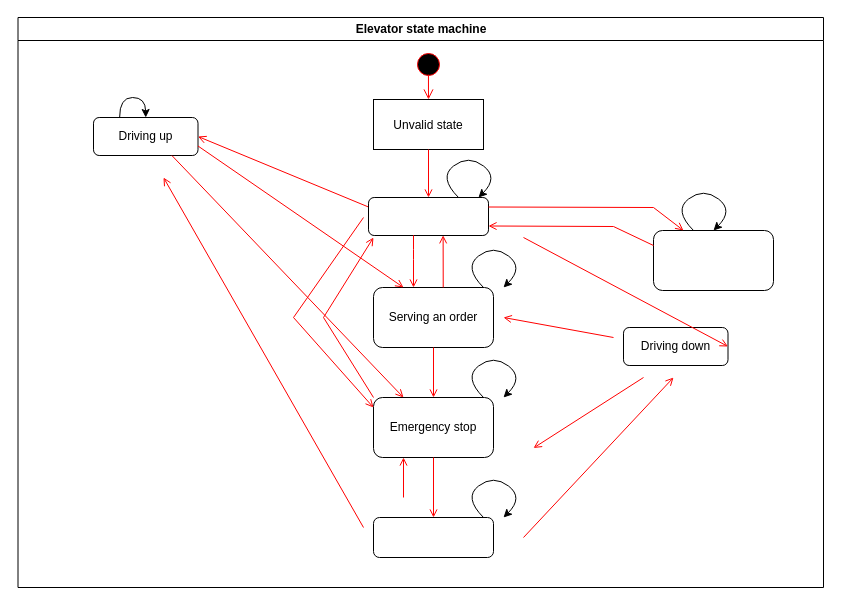
Some shapes in this 841 by 605 pixel diagram are drawn without their labels. Each missing label, with the box of its shape:
Idle, at a floor: (368, 196, 488, 236)
Idle, inbetween floors: (372, 516, 494, 558)
Obstruction: (652, 230, 774, 290)
